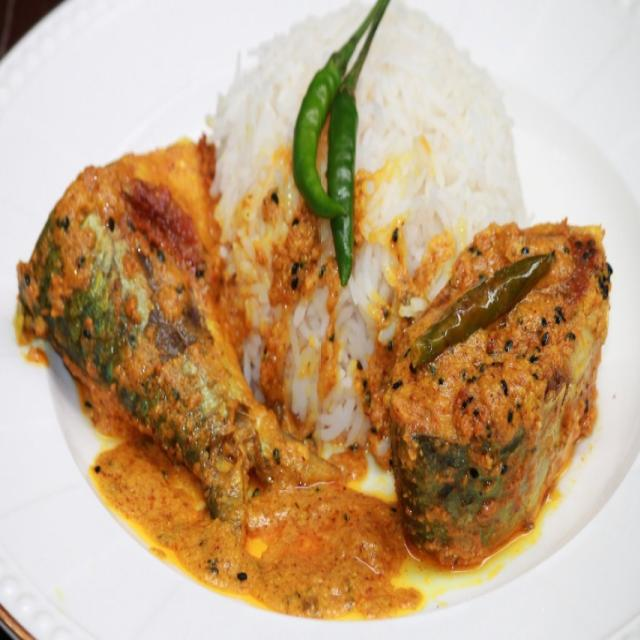FISH CURRY: (14, 147, 618, 623)
